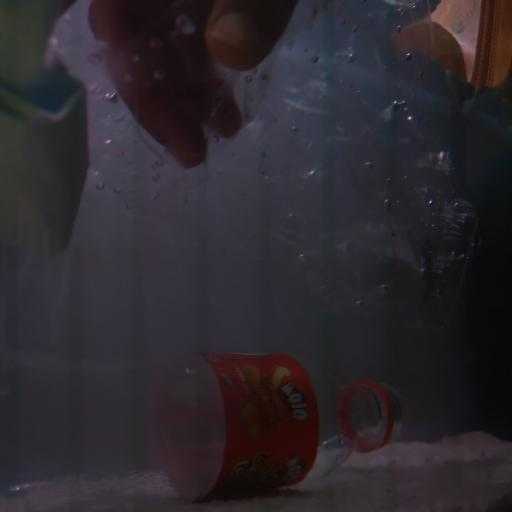mask: (2, 0, 102, 279), (409, 2, 512, 99)
plastic_bag: (84, 0, 511, 314)
plastic_bottle: (0, 352, 410, 512)
